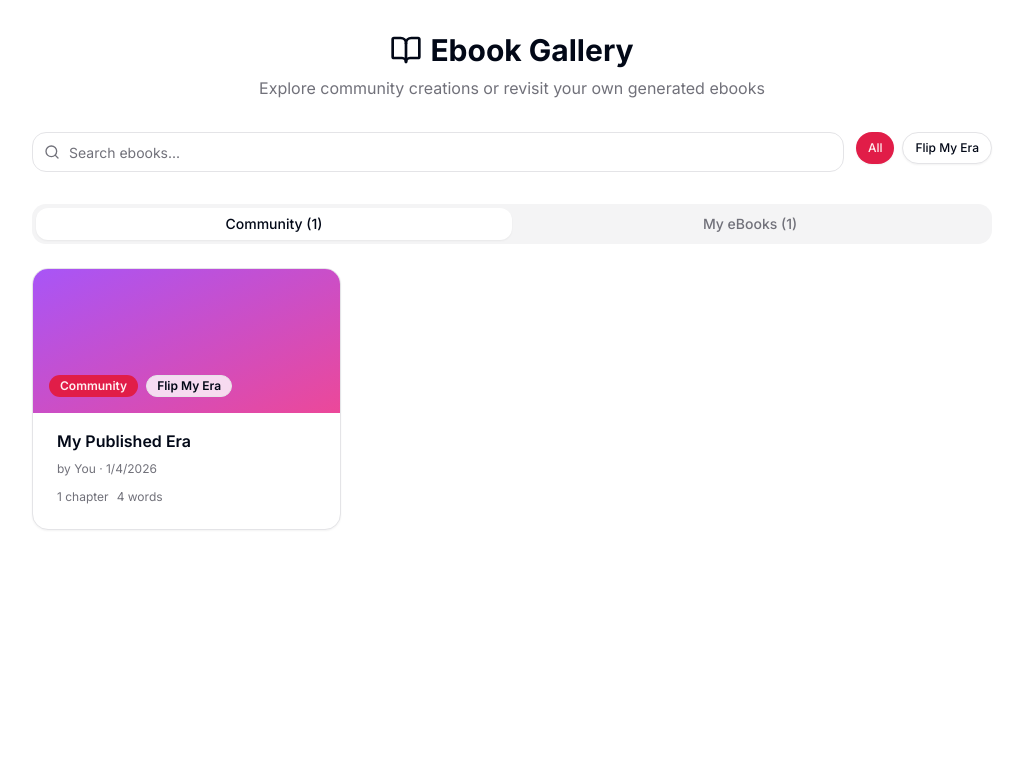
Test case: Gallery › unpublishes with the authoritative version and removes the server-unpublished book from Community
Click the tab "My eBooks (1)" at x=750, y=224, box x1=512 y1=208 x2=988 y2=240
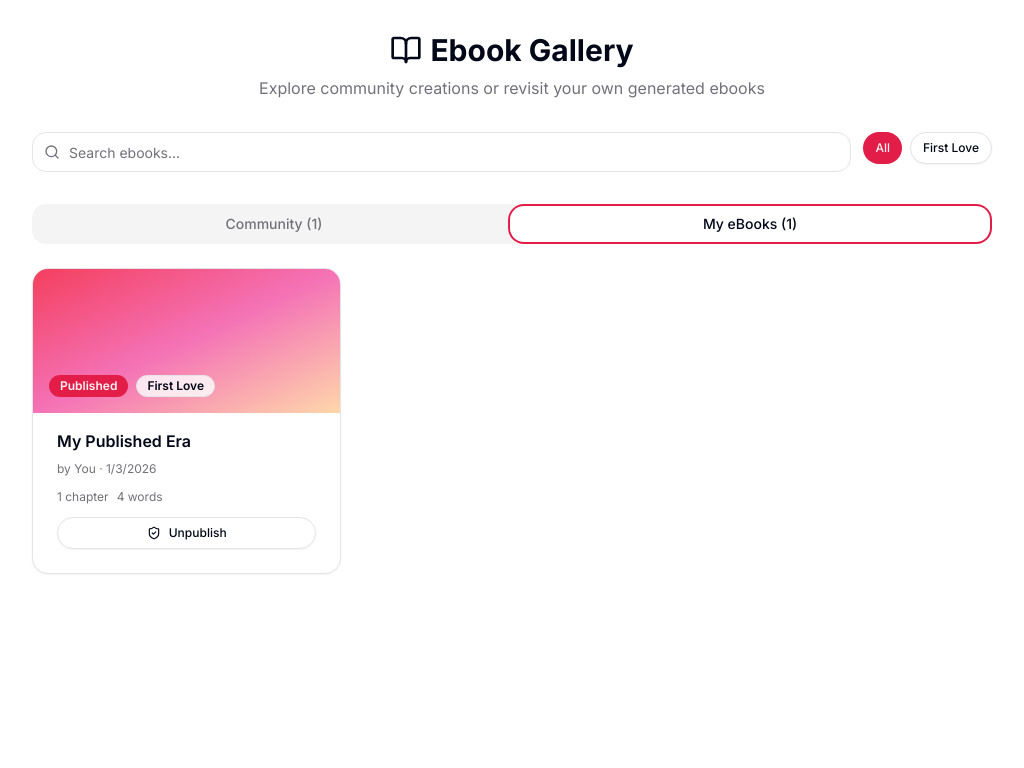
Click the button "Unpublish" at x=187, y=533, box x1=57 y1=517 x2=316 y2=549
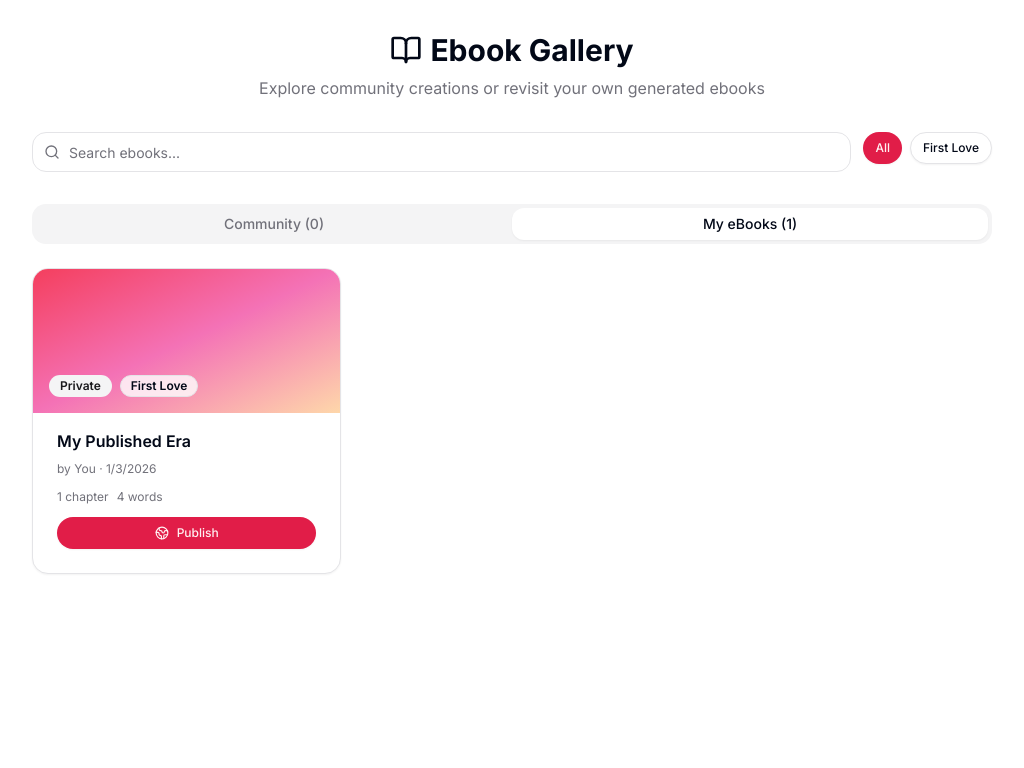
Now the button "Publish" is shown, box x1=57 y1=517 x2=316 y2=549
Click the tab "Community (0)" at x=274, y=224, box x1=36 y1=208 x2=512 y2=240
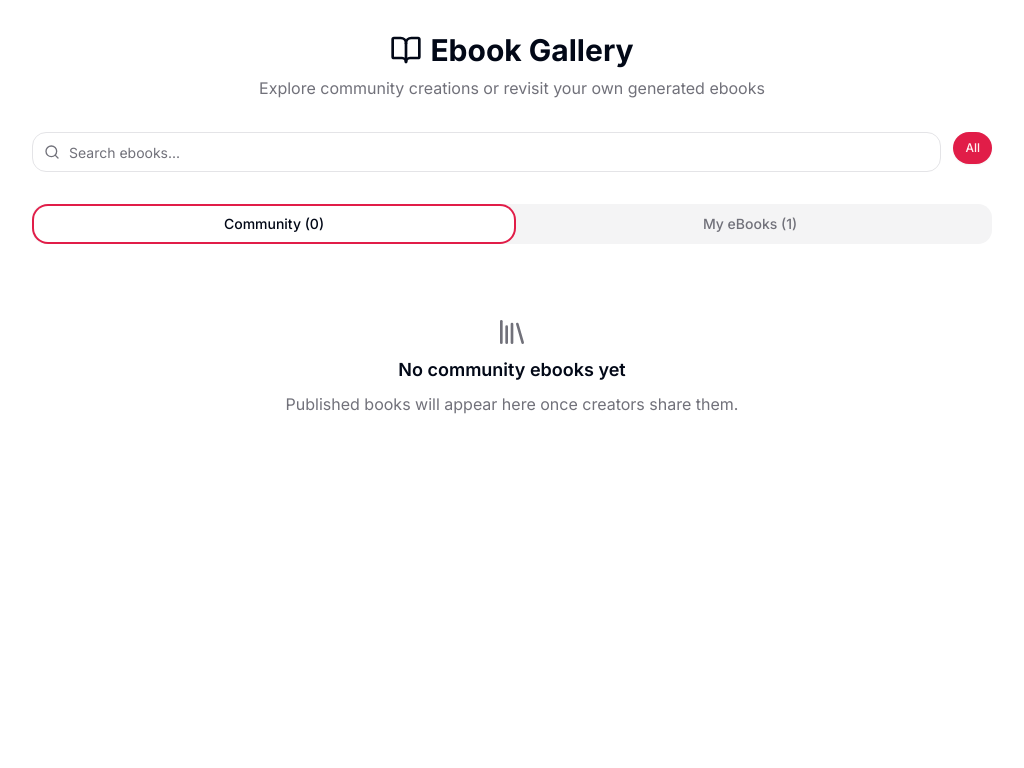
Now the heading "My Published Era" is gone
